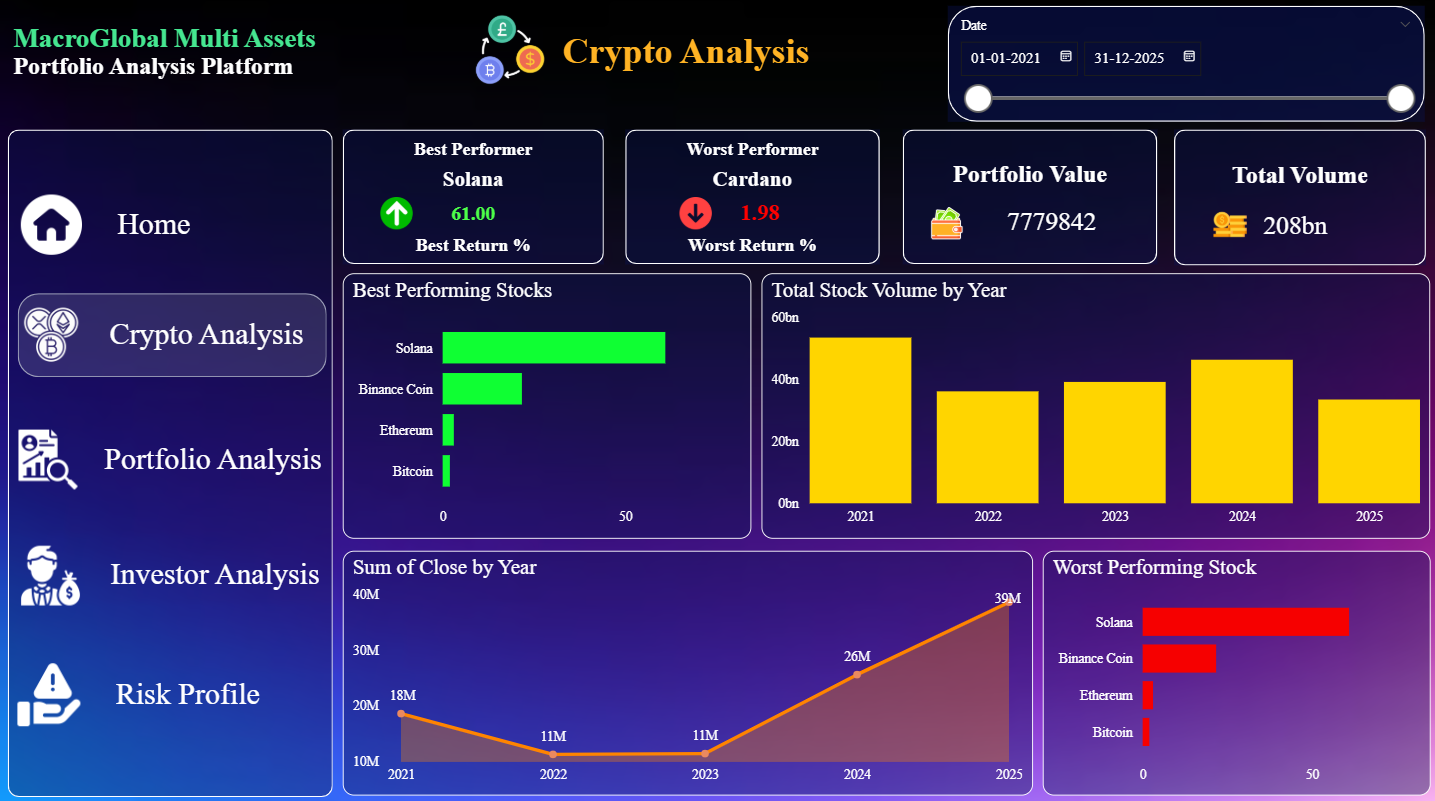

The dashboard page shown, as its layout file describes it:
{"tool":"powerbi","page":{"name":"Crypto Analysis","canvas":[1280,720],"ordinal":2},"visuals":[{"type":"shape","box":[8.3,117.2,289,593.3],"z":0,"group":"g1"},{"type":"image","box":[17.8,175.2,57.5,53.8],"z":0,"group":"g2"},{"type":"shape","box":[16.6,262.9,274.8,74.6],"z":0},{"type":"group","id":"g1","title":"Group 10","box":[8.3,117.2,289,593.3],"z":1000},{"type":"actionButton","box":[89.9,182.1,193,40.3],"z":1000,"group":"g2"},{"type":"shape","box":[843.2,8.3,424,103],"z":2000},{"type":"textbox","box":[412.1,24.9,364.8,86.5],"z":3000},{"type":"shape","box":[305.6,117.2,232.1,119.6],"z":3000,"group":"g4"},{"type":"textbox","box":[8.3,0,297.3,138.6],"z":4000},{"type":"image","box":[421.6,15.4,66.3,62.8],"z":5000},{"type":"group","id":"g2","title":"Group 1","box":[17.8,175.2,265.3,53.3],"z":5000,"group":"g1"},{"type":"clusteredBarChart","title":"Best Performing Stocks","fields":{"Y":["Measure.Best Return %"],"Category":["Dim_Assets.AssetName"]},"box":[305.6,245.2,363.6,235.7],"z":6000},{"type":"group","id":"g3","title":"Group 2","box":[16.6,272.3,279.5,53.3],"z":6000,"group":"g1"},{"type":"image","box":[16.6,375.4,56.4,71.1],"z":6000,"group":"g8"},{"type":"image","box":[17.8,480.8,56.4,66.3],"z":7000,"group":"g9"},{"type":"clusteredBarChart","title":"Worst Performing Stock","fields":{"Y":["Measure.Worst Return %"],"Category":["Dim_Assets.AssetName"]},"box":[927.3,492.7,344.6,217.9],"z":7000},{"type":"lineChart","title":"Sum of Close by Year","fields":{"Category":["Dim_Date.Year"],"Y":["Sum(Fact_Stocks.Close)"]},"box":[305.6,492.7,613.5,217.9],"z":8000},{"type":"image","box":[16.6,592.1,58,55.7],"z":8000,"group":"g10"},{"type":"columnChart","title":"Total Stock Volume by Year","fields":{"Category":["Dim_Date.Year"],"Y":["Measure.Total Stock Volume"]},"box":[677.4,245.2,594.5,235.7],"z":9000},{"type":"actionButton","title":"Stock Analysis","box":[85.6,391.2,210.5,40.3],"z":9000,"group":"g8"},{"type":"group","id":"g4","title":"Group 3","box":[305.6,117.2,232.1,119.6],"z":10000},{"type":"actionButton","title":"Stock Analysis","box":[91.4,493.4,205.9,40.3],"z":10000,"group":"g9"},{"type":"group","id":"g5","title":"Group 4","box":[556.6,117.2,226.2,119.6],"z":11000},{"type":"card","fields":{"Values":["Measure.Best Performing Stock"]},"box":[305.6,146.8,232.1,30.9],"z":11000,"group":"g4"},{"type":"actionButton","title":"Stock Analysis","box":[88.8,600.4,193,40.3],"z":11000,"group":"g10"},{"type":"group","id":"g6","title":"Group 5","box":[803,117.2,226.2,119.6],"z":12000},{"type":"card","fields":{"Values":["Measure.Best Return %"]},"box":[305.6,172.5,232.1,41.2],"z":12000,"group":"g4"},{"type":"group","id":"g7","title":"Group 6","box":[1044.6,117.2,223.8,120.8],"z":13000},{"type":"textbox","box":[305.6,206.6,232.1,28.9],"z":13000,"group":"g4"},{"type":"image","box":[16.6,272.3,61.4,53.3],"z":13000,"group":"g3"},{"type":"slicer","fields":{"Values":["Dim_Date.Date"]},"box":[842,8.3,426.4,103],"z":14000},{"type":"image","box":[328.3,177.7,50.7,28.9],"z":14000,"group":"g4"},{"type":"shape","box":[556.6,117.2,226.2,119.6],"z":15000,"group":"g5"},{"type":"card","fields":{"Values":["Measure.Worst Performing Stock"]},"box":[556.6,147.1,226.2,30.9],"z":16000,"group":"g5"},{"type":"group","id":"g8","title":"Group 7","box":[16.6,375.4,279.5,71.1],"z":16000,"group":"g1"},{"type":"card","fields":{"Values":["Measure.Worst Return %"]},"box":[569.6,177,213.2,28.9],"z":17000,"group":"g5"},{"type":"actionButton","title":"Stock Analysis","box":[91.8,279.4,204.3,40.3],"z":17000,"group":"g3"},{"type":"group","id":"g9","title":"Group 8","box":[17.8,480.8,279.5,66.3],"z":17000,"group":"g1"},{"type":"textbox","box":[556.6,205.9,226.2,28.9],"z":18000,"group":"g5"},{"type":"group","id":"g10","title":"Group 9","box":[16.6,592.1,265.3,55.7],"z":18000,"group":"g1"},{"type":"image","box":[594.3,177,49.4,28.9],"z":19000,"group":"g5"},{"type":"shape","box":[803,117.2,226.2,119.6],"z":20000,"group":"g6"},{"type":"card","fields":{"Values":["Measure.Portfolio Value"]},"box":[842,177.4,187.2,44.3],"z":21000,"group":"g6"},{"type":"image","box":[817.3,185.6,49.4,28.9],"z":22000,"group":"g6"},{"type":"shape","box":[1044.6,117.2,223.8,120.8],"z":23000,"group":"g7"},{"type":"card","fields":{"Values":["Measure.Total Stock Volume"]},"box":[1061.4,180,182.4,44.8],"z":24000,"group":"g7"},{"type":"image","box":[1061.4,187.3,66.3,29.2],"z":25000,"group":"g7"}]}

Visuals, with their boxes in screenshot pixels (x1, y1, x2, y2), scaled from the page's 1280x720 canvas onto the 1435x801 screenshot:
shape: BBox(9, 130, 333, 790)
image: BBox(20, 195, 84, 255)
shape: BBox(19, 292, 327, 375)
"Group 10" group: BBox(9, 130, 333, 790)
actionButton: BBox(101, 203, 317, 247)
shape: BBox(945, 9, 1421, 124)
textbox: BBox(462, 28, 871, 124)
shape: BBox(343, 130, 603, 263)
textbox: BBox(9, 0, 343, 154)
image: BBox(473, 17, 547, 87)
"Group 1" group: BBox(20, 195, 317, 254)
"Best Performing Stocks" clusteredBarChart: BBox(343, 273, 750, 535)
"Group 2" group: BBox(19, 303, 332, 362)
image: BBox(19, 418, 82, 497)
image: BBox(20, 535, 83, 609)
"Worst Performing Stock" clusteredBarChart: BBox(1040, 548, 1426, 791)
"Sum of Close by Year" lineChart: BBox(343, 548, 1030, 791)
image: BBox(19, 659, 84, 721)
"Total Stock Volume by Year" columnChart: BBox(759, 273, 1426, 535)
"Stock Analysis" actionButton: BBox(96, 435, 332, 480)
"Group 3" group: BBox(343, 130, 603, 263)
"Stock Analysis" actionButton: BBox(102, 549, 333, 594)
"Group 4" group: BBox(624, 130, 878, 263)
card - Measure.Best Performing Stock: BBox(343, 163, 603, 198)
"Stock Analysis" actionButton: BBox(100, 668, 316, 713)
"Group 5" group: BBox(900, 130, 1154, 263)
card - Measure.Best Return %: BBox(343, 192, 603, 238)
"Group 6" group: BBox(1171, 130, 1422, 265)
textbox: BBox(343, 230, 603, 262)
image: BBox(19, 303, 87, 362)
slicer - Dim_Date.Date: BBox(944, 9, 1422, 124)
image: BBox(368, 198, 425, 230)
shape: BBox(624, 130, 878, 263)
card - Measure.Worst Performing Stock: BBox(624, 164, 878, 198)
"Group 7" group: BBox(19, 418, 332, 497)
card - Measure.Worst Return %: BBox(639, 197, 878, 229)
"Stock Analysis" actionButton: BBox(103, 311, 332, 356)
"Group 8" group: BBox(20, 535, 333, 609)
textbox: BBox(624, 229, 878, 261)
"Group 9" group: BBox(19, 659, 316, 721)
image: BBox(666, 197, 722, 229)
shape: BBox(900, 130, 1154, 263)
card - Measure.Portfolio Value: BBox(944, 197, 1154, 247)
image: BBox(916, 206, 972, 239)
shape: BBox(1171, 130, 1422, 265)
card - Measure.Total Stock Volume: BBox(1190, 200, 1394, 250)
image: BBox(1190, 208, 1264, 241)
